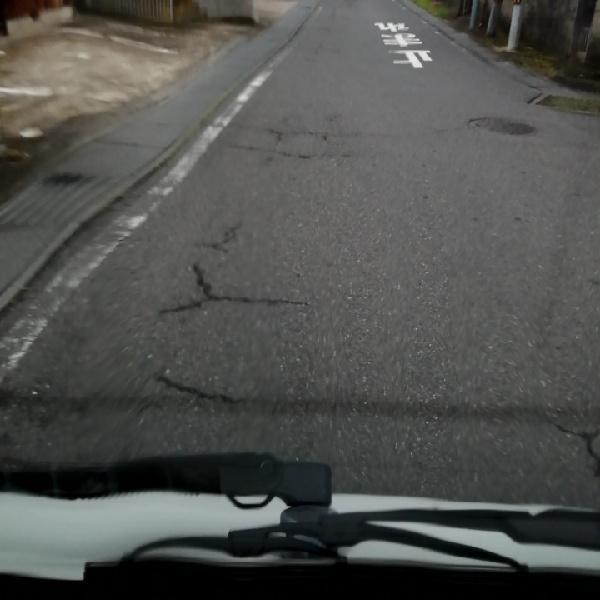D00: (164, 233, 308, 319), (549, 409, 598, 489), (202, 222, 247, 250)
D10: (147, 371, 247, 403)
D20: (228, 109, 353, 161), (547, 408, 599, 487)
D44: (5, 35, 286, 399), (2, 181, 186, 397)
D50: (465, 110, 538, 137)
